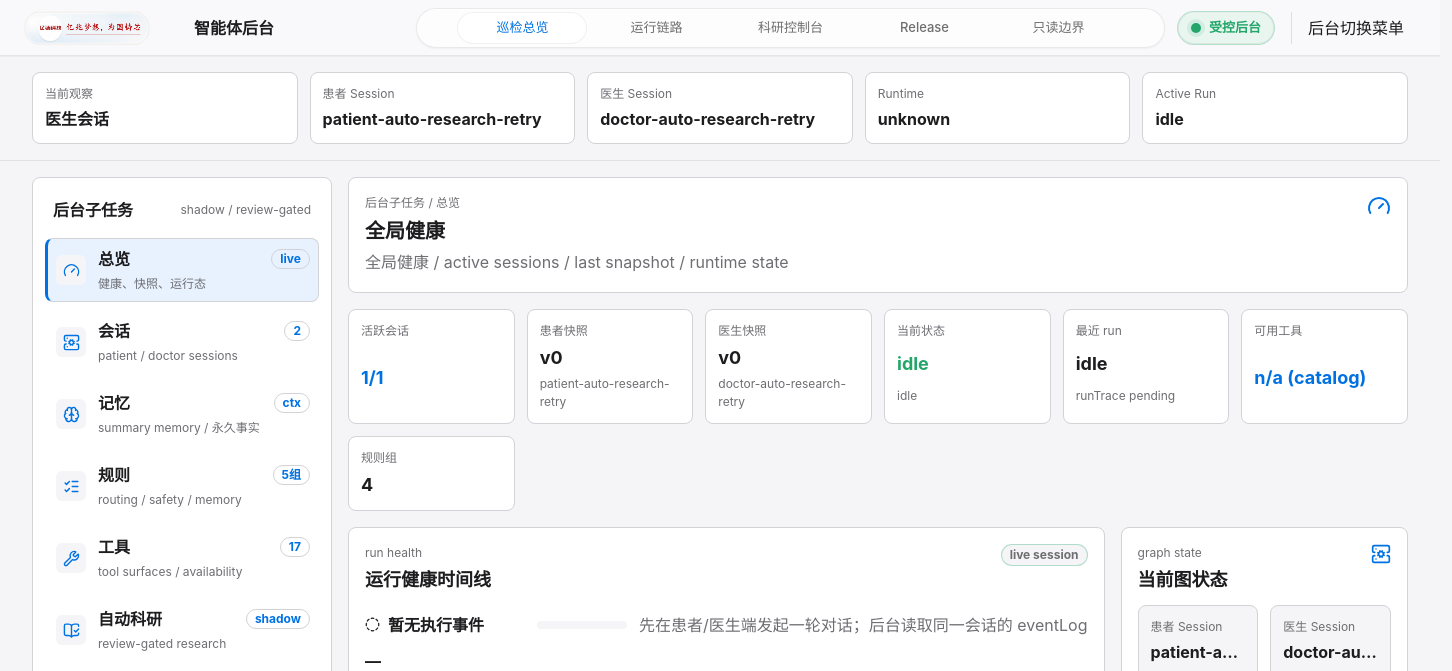
Scenario: AgentAdminView › keeps the Run ledger available when detail loading fails and supports retry
The width and height of the screenshot is (1452, 671).
Click the button "自动科研 shadow review-gated research".
click(130, 619)  # box [45,598,319,662]
(page scrolled)
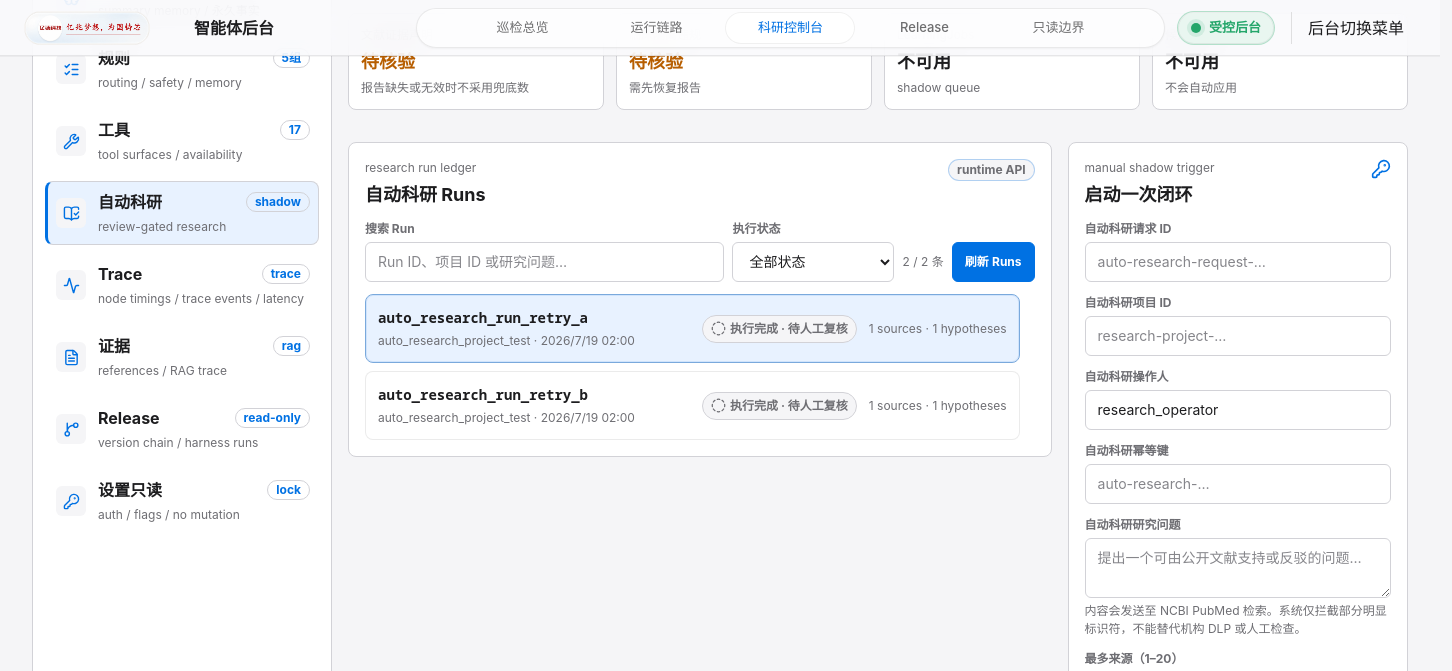
Click the button "auto_research_run_retry_b".
click(483, 394)  # box [365,371,1020,440]
(page scrolled)
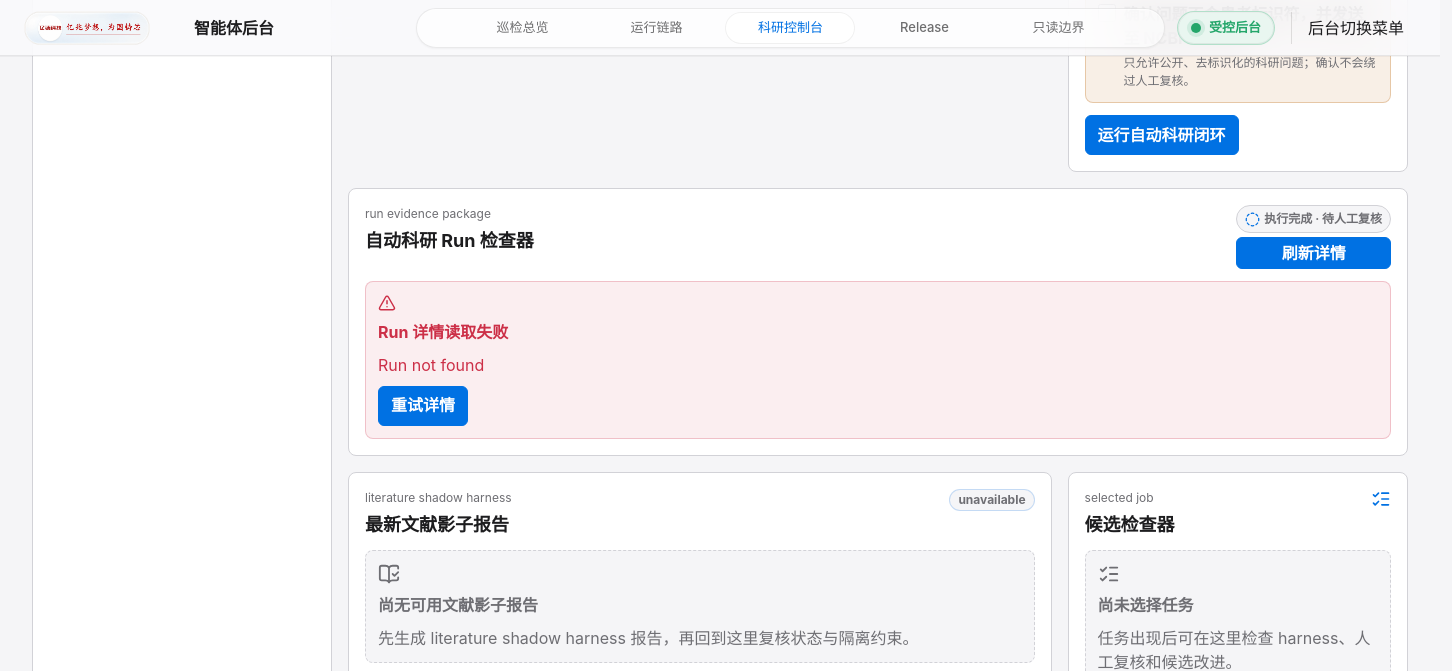
expect the text "Run 详情读取失败" is shown: met, box [378,322,508,342]
Click the button "重试详情".
click(423, 406)  # box [378,386,468,426]
(page scrolled)
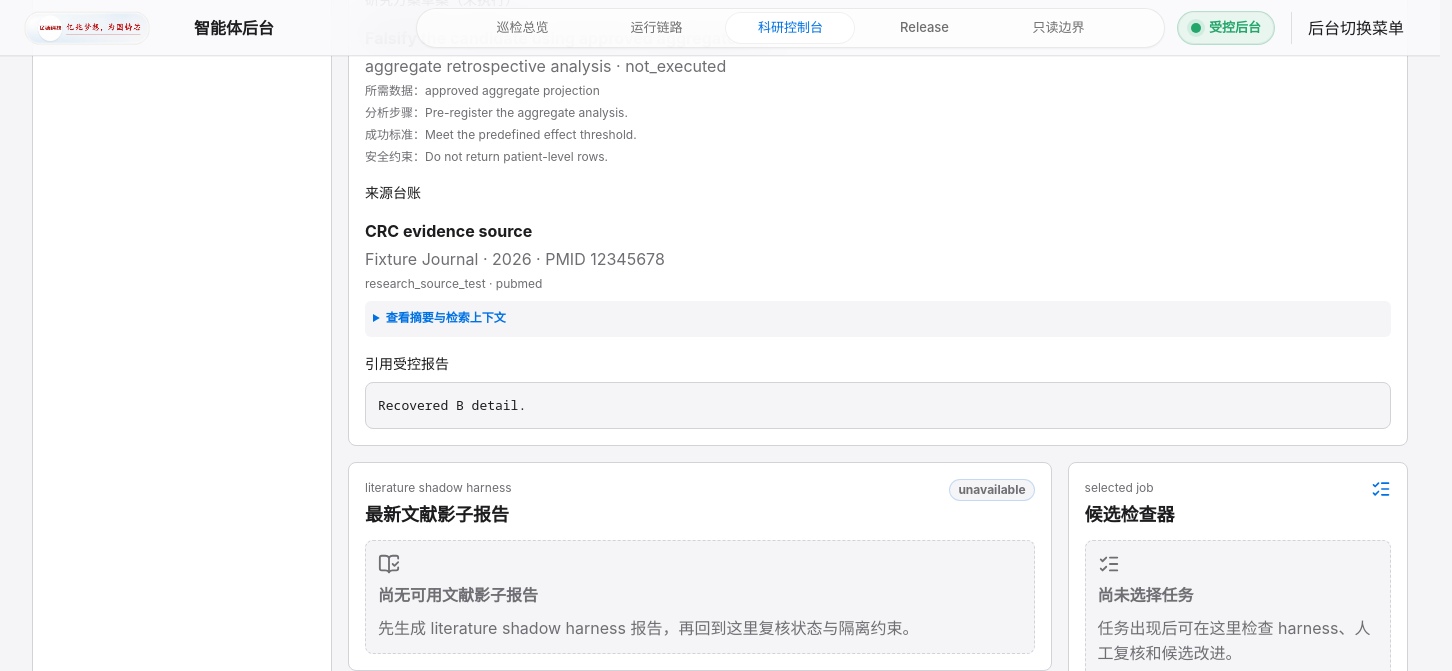
expect the text "Recovered B detail." is shown: met, box [365,382,1391,429]
